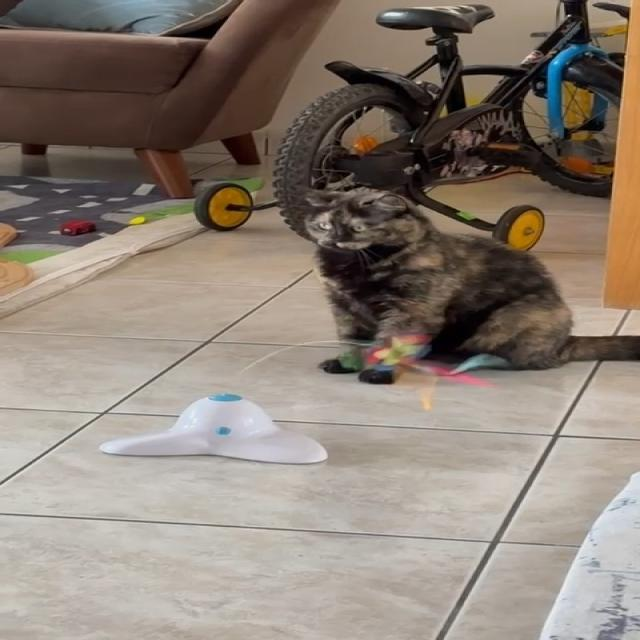authorized: (297, 184, 639, 372)
